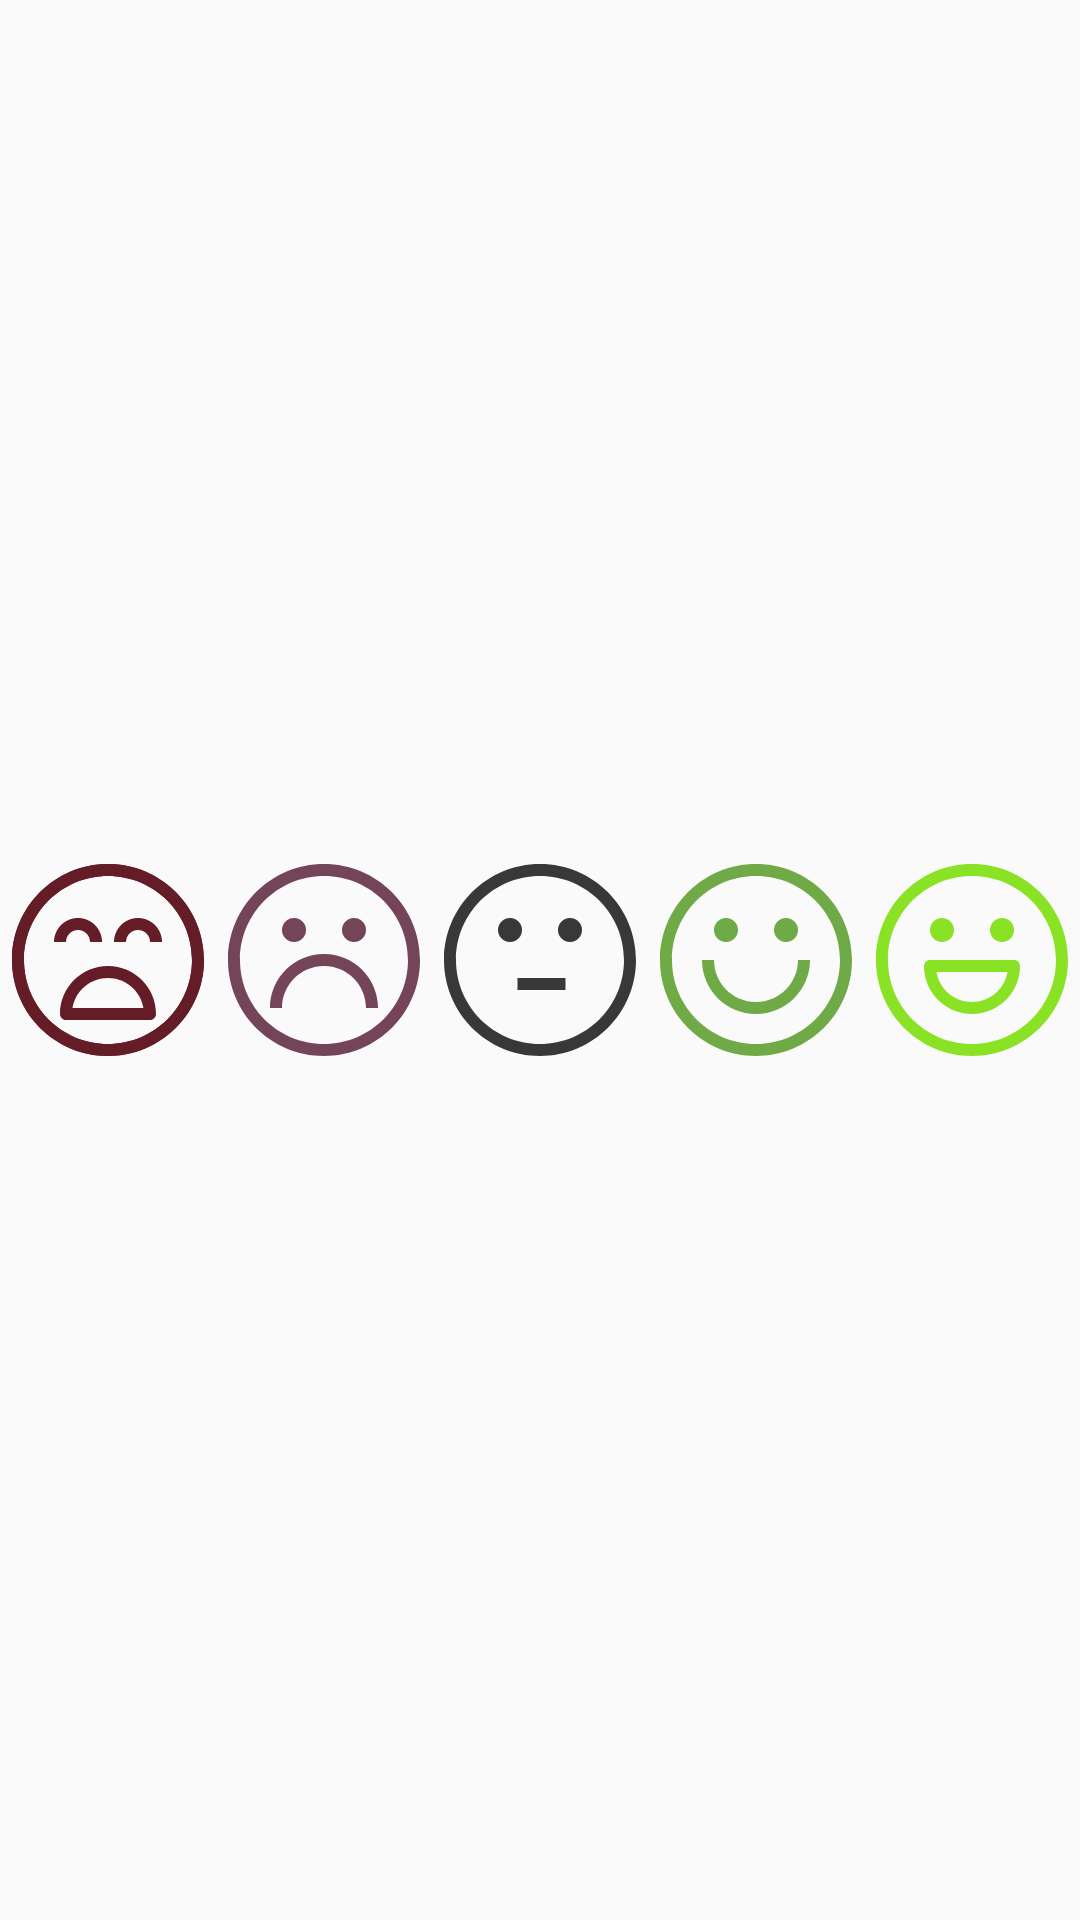

Icon click points for this 1080×1920 phone screenshot, format (x,y):
mood: (108,960), (324,960), (540,960), (756,960), (972,960)
